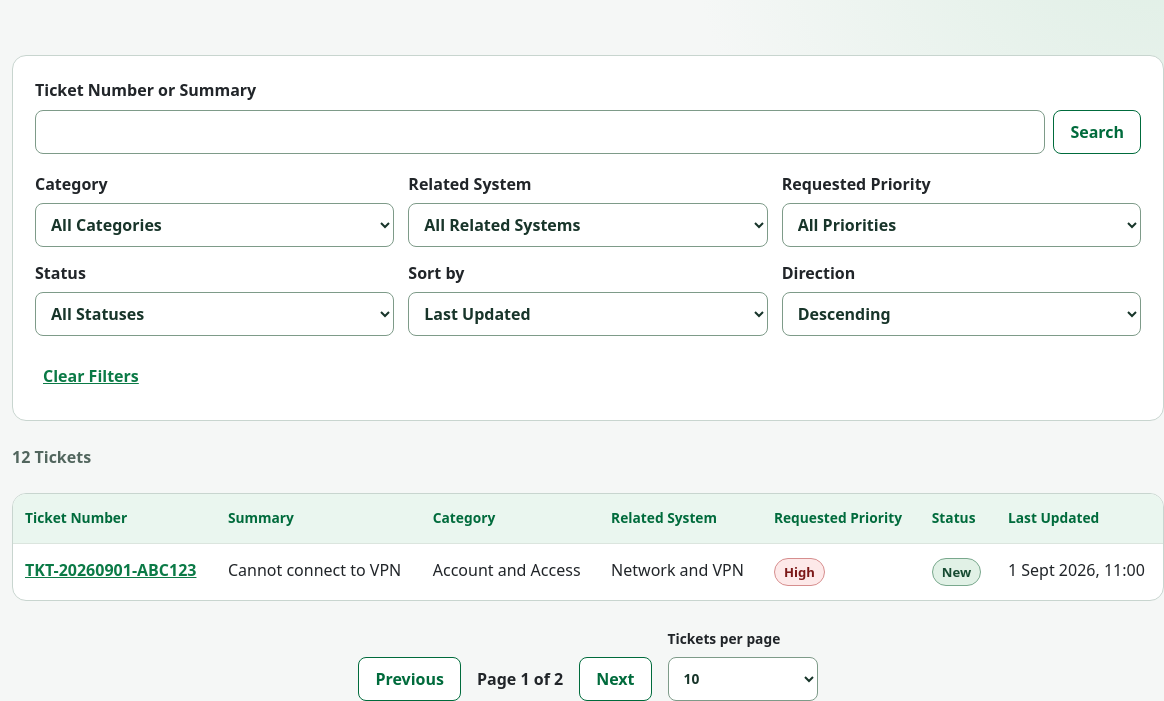
Test: My Tickets › requests the next one-based page and exposes accurate pagination controls
This screenshot has width=1164, height=701.
(page scrolled)
Expected: the text "Page 1 of 2" is shown, [477, 668, 563, 690]
Expected: the button "Previous" is disabled, [358, 657, 461, 700]
Click the button "Next". click: (615, 679)
box: [579, 657, 652, 700]
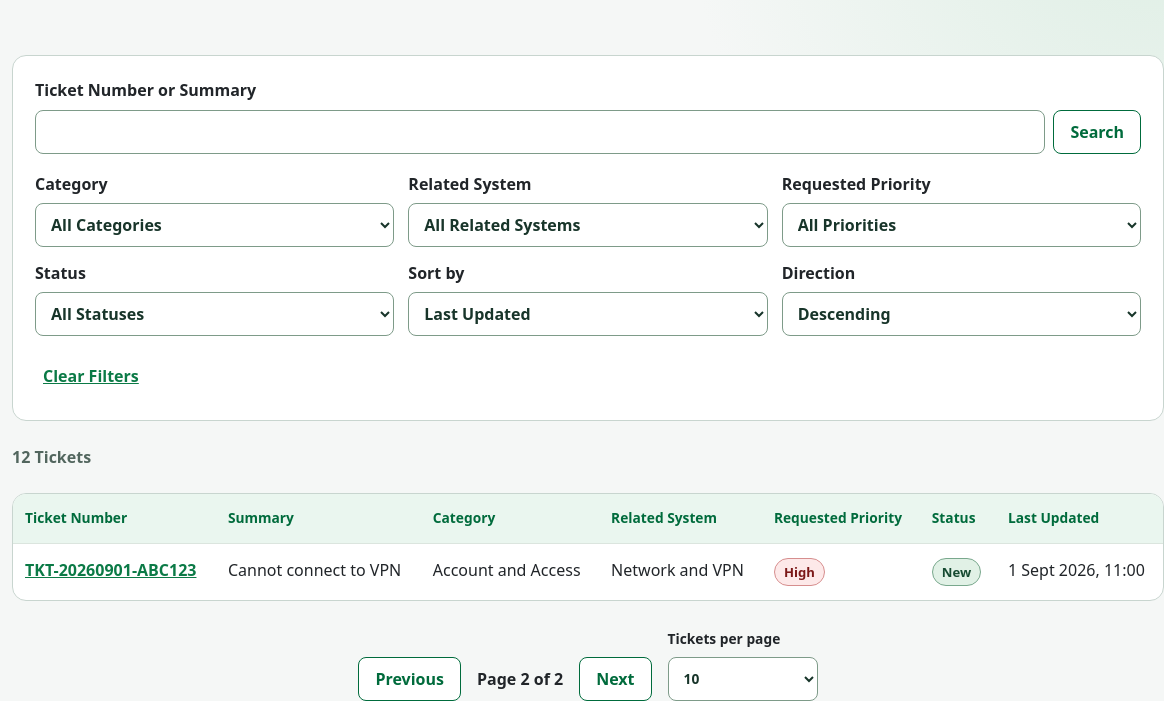
Expected: the button "Previous" is enabled, [358, 657, 461, 700]
Expected: the text "Page 2 of 2" is shown, [477, 668, 563, 690]
